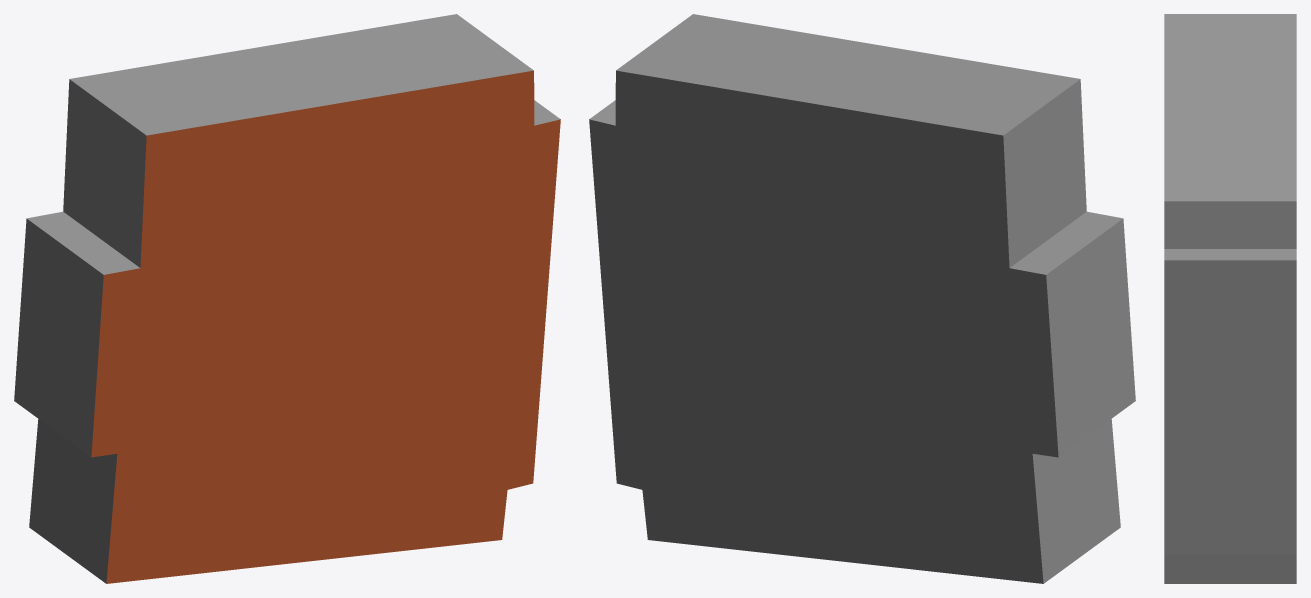
File: construction_6356_assumed_A_Casa_h6m.obj
The picture shows the model from 3 angles, left to right: view 1: azimuth 30°, elevation 25°; view 2: azimuth 150°, elevation 25°; view 3: azimuth 270°, elevation 25°; orthographic projection. The views are drawn at different scales.
Visible parts, largest first — view 1: construction_6356_assumed_A_Casa; view 2: construction_6356_assumed_A_Casa; view 3: construction_6356_assumed_A_Casa.
Part boxes in pixels (x1=…): construction_6356_assumed_A_Casa: x1=14, y1=14, x2=560, y2=583; construction_6356_assumed_A_Casa: x1=589, y1=14, x2=1135, y2=583; construction_6356_assumed_A_Casa: x1=1164, y1=14, x2=1296, y2=583.
Bounding box in the file's own units: 21.05 × 21.04 × 6.
